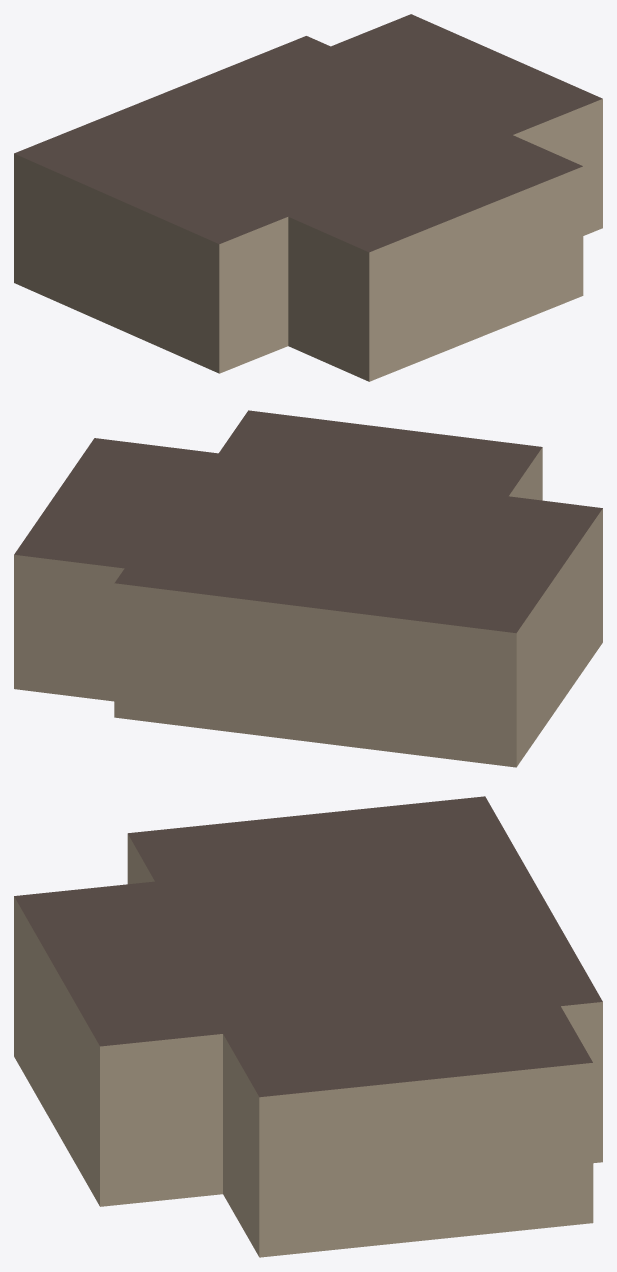
3 views of the same model, one above another, from view 1: azimuth 30°, elevation 25°; view 2: azimuth 150°, elevation 25°; view 3: azimuth 270°, elevation 25° (orthographic). The views are drawn at different scales.
Parts seen in each view (by area): view 1: HP-w442103684; view 2: HP-w442103684; view 3: HP-w442103684.
Boxes of the visible parts, x1=… form: HP-w442103684: x1=14, y1=14, x2=602, y2=381; HP-w442103684: x1=14, y1=410, x2=602, y2=767; HP-w442103684: x1=14, y1=796, x2=602, y2=1257.
Size of the model in its own units: 36.22 by 9 by 29.96.
